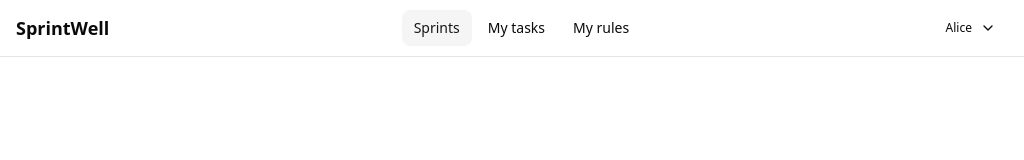
Test: Header › logs the user out, falling back to the anonymous header
Click the button "Alice": (971, 28) x1=934 y1=12 x2=1008 y2=44
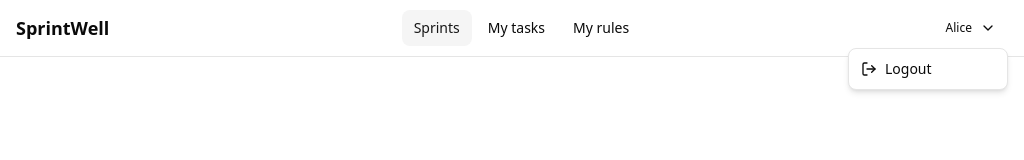
Click the menu item "Logout": (928, 69) x1=853 y1=53 x2=1003 y2=85
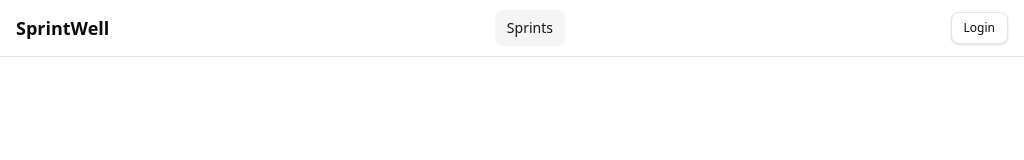
expect the link "Login" is shown: met, box x1=950 y1=12 x2=1008 y2=44
expect the button "Alice" is gone: met
